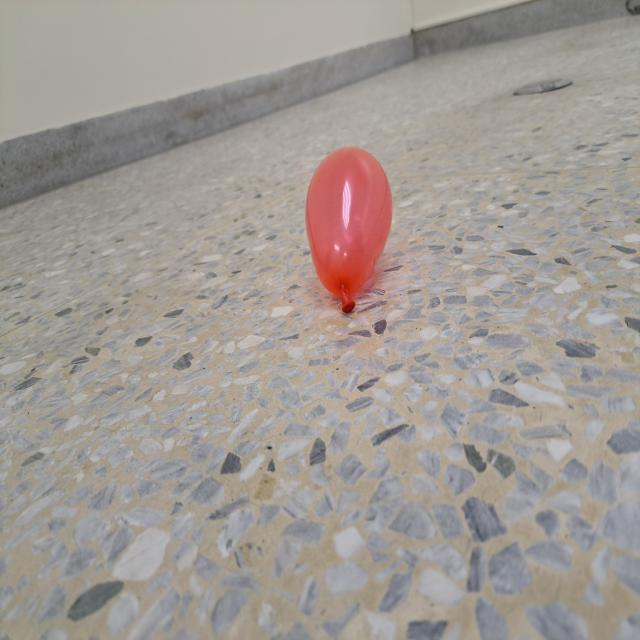red: (305, 145, 394, 315)
